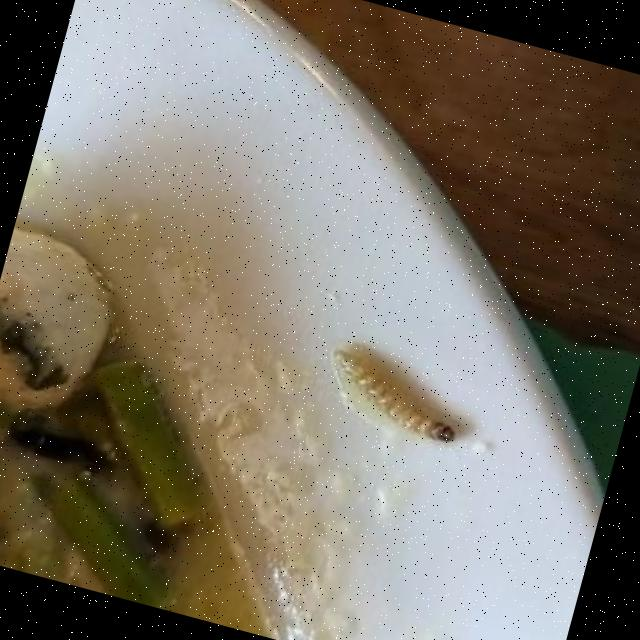worm: (315, 322, 482, 468)
